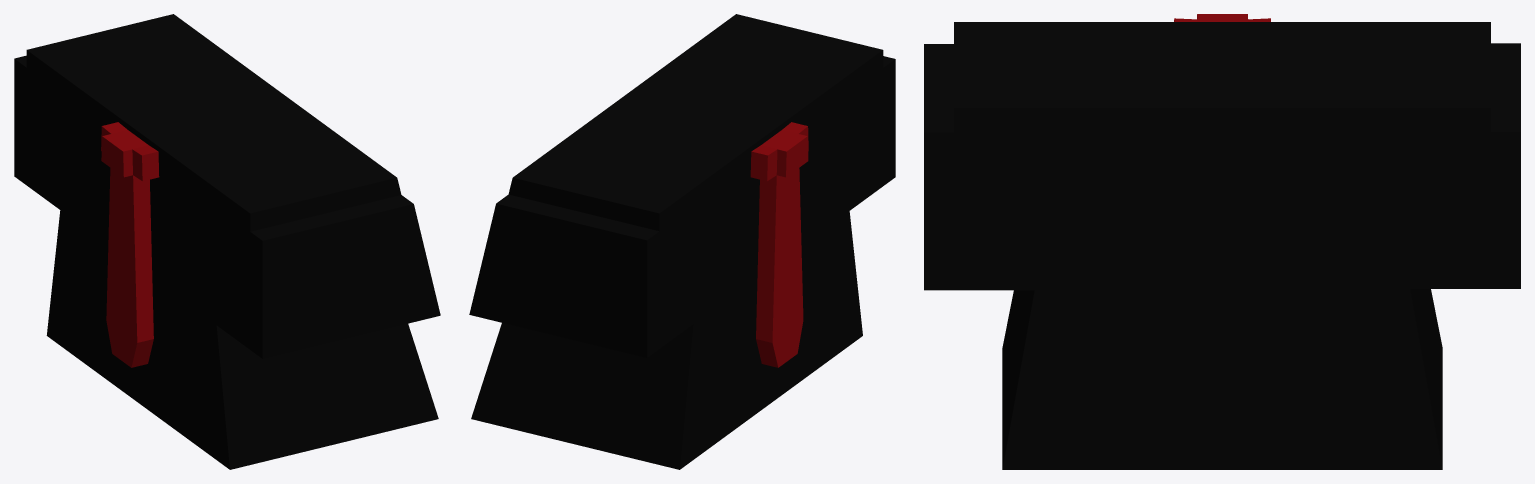
The model's file is fbx_torso_tux.fbx.
The picture shows the model from 3 angles, left to right: view 1: azimuth 30°, elevation 25°; view 2: azimuth 150°, elevation 25°; view 3: azimuth 270°, elevation 25°; orthographic projection. The views are drawn at different scales.
Visible parts, largest first — view 1: sm_torso_tux.002; view 2: sm_torso_tux.002; view 3: sm_torso_tux.002.
Boxes of the visible parts, x1,y1,x2,y2 form: sm_torso_tux.002: [14, 14, 440, 469]; sm_torso_tux.002: [469, 14, 895, 469]; sm_torso_tux.002: [924, 14, 1520, 469].
Size of the model in its own units: 22.65 by 25.02 by 41.55.
